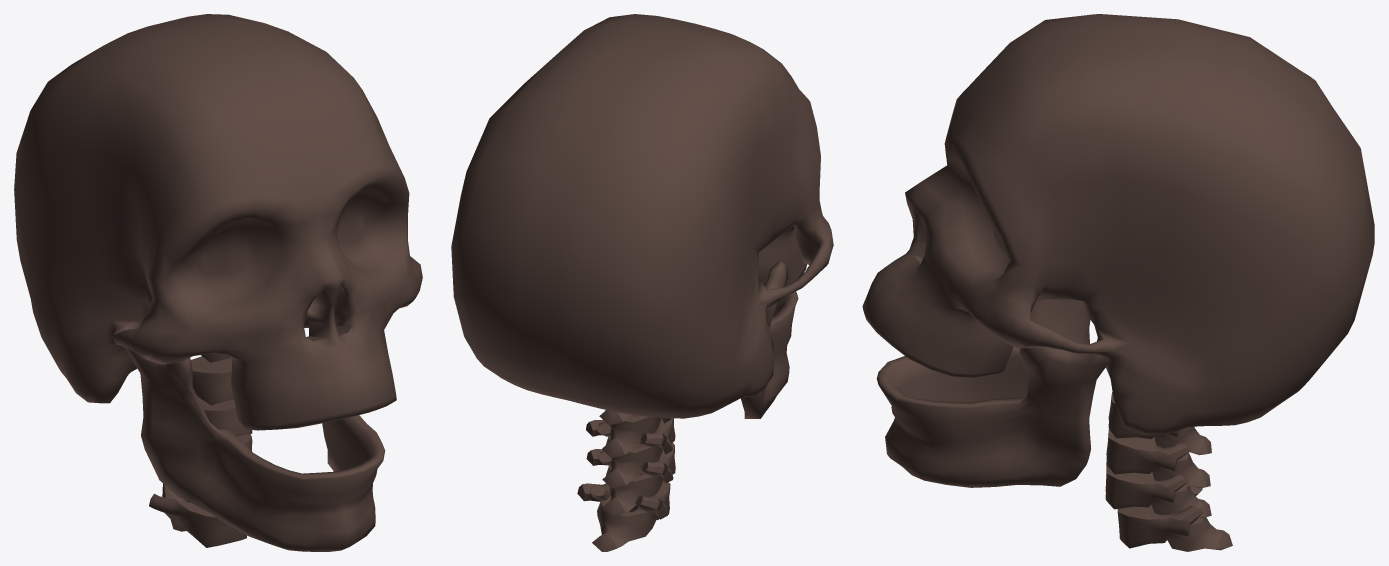
The model's file is Skull model.FBX.
3 views of the same model, side by side, from view 1: azimuth 30°, elevation 25°; view 2: azimuth 150°, elevation 25°; view 3: azimuth 270°, elevation 25° (orthographic). The views are drawn at different scales.
Visible parts, largest first — view 1: Skull_upperPiece, Skull_underPiece, Cylinder022, Cylinder026, Cylinder025; view 2: Skull_upperPiece, Cylinder022, Skull_underPiece, Cylinder024, Cylinder023, Cylinder025; view 3: Skull_upperPiece, Skull_underPiece, Cylinder022, Cylinder024, Cylinder023, Cylinder025.
Boxes of the visible parts, x1,y1,x2,y2 form: Skull_upperPiece: [14, 14, 422, 430]; Skull_underPiece: [125, 347, 385, 551]; Cylinder022: [149, 484, 246, 547]; Cylinder026: [191, 356, 233, 405]; Cylinder025: [197, 396, 252, 436]; Skull_upperPiece: [451, 14, 833, 418]; Cylinder022: [577, 474, 670, 551]; Skull_underPiece: [740, 262, 798, 418]; Cylinder024: [586, 414, 675, 488]; Cylinder023: [586, 442, 675, 516]; Cylinder025: [602, 415, 671, 457]; Skull_upperPiece: [862, 14, 1374, 435]; Skull_underPiece: [876, 299, 1108, 487]; Cylinder022: [1117, 486, 1232, 551]; Cylinder024: [1106, 429, 1210, 488]; Cylinder023: [1105, 464, 1211, 517]; Cylinder025: [1108, 392, 1211, 455].
Bounding box in the file's own units: 0.2243 × 0.3756 × 0.34.
